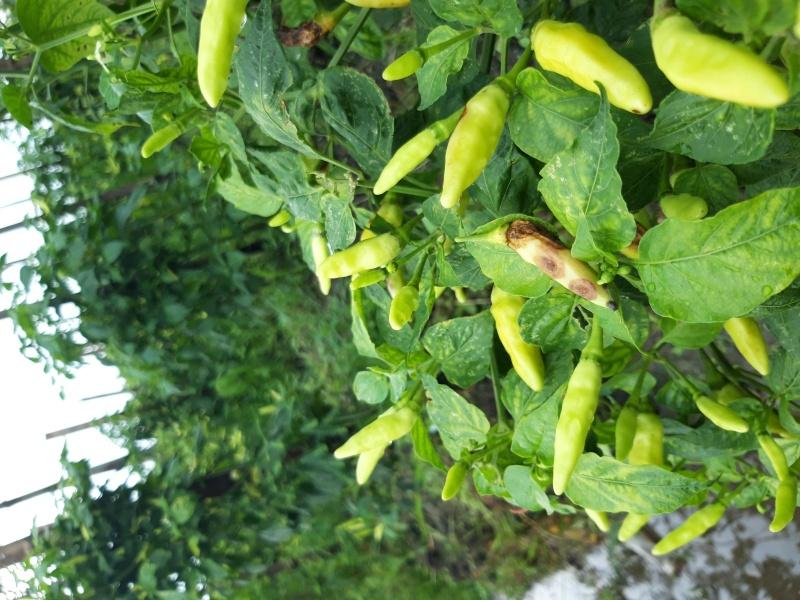antraknosa: (500, 216, 623, 314), (439, 80, 513, 207), (275, 20, 326, 48)
cabai_normal: (651, 13, 787, 106), (528, 18, 655, 117), (548, 357, 604, 497), (195, 1, 252, 110), (490, 288, 548, 392), (371, 124, 438, 196), (316, 232, 401, 286), (333, 407, 418, 459), (726, 314, 772, 375), (388, 284, 422, 330), (140, 123, 181, 158), (381, 48, 424, 80)
